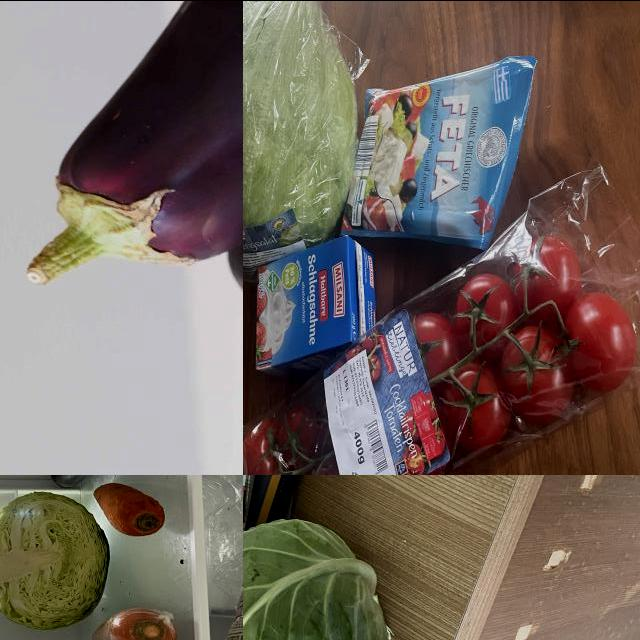cabbage: (244, 1, 389, 265), (244, 515, 400, 640), (1, 496, 115, 630)
carrot: (98, 487, 168, 535), (90, 604, 176, 640)
eggplant: (24, 1, 244, 284), (48, 475, 121, 484)
tomato: (244, 168, 640, 475)
